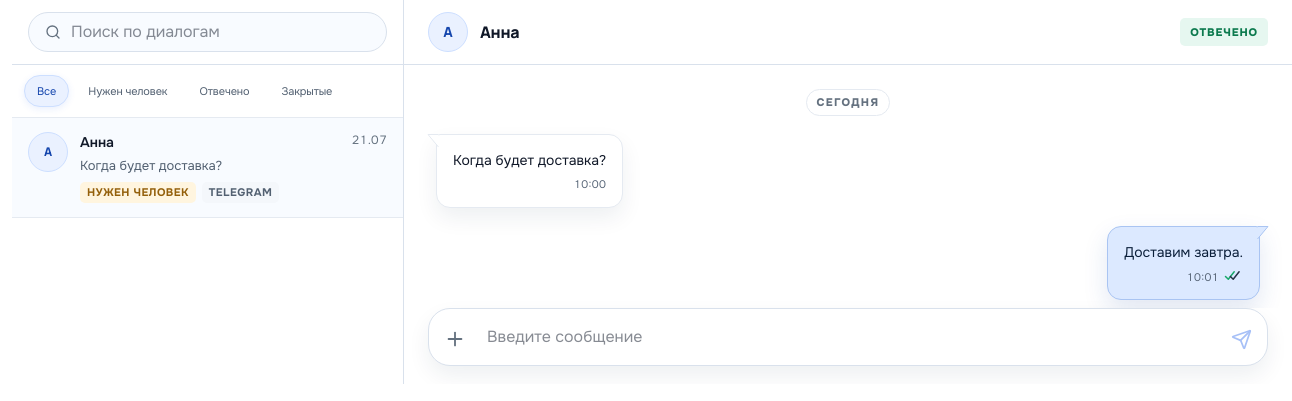
InboxPage live actions › renders a separate state when the current search has no matches
Check: the heading "Анна" is shown, box left=480, top=20, right=519, bottom=44
In the field with placeholder "Поиск по диалогам": (220, 32) left=71, top=20, right=370, bottom=44, type "Несуществующий клиент"
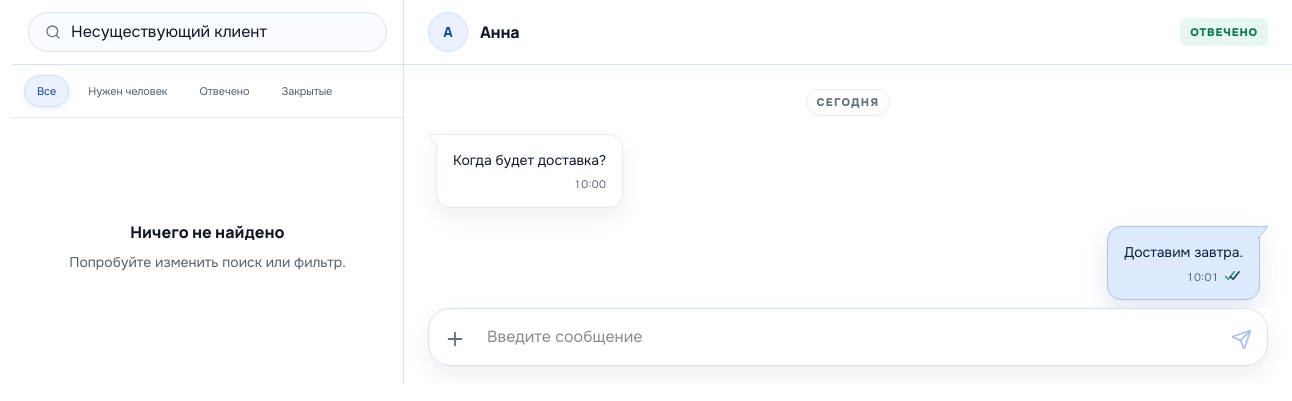
Check: the heading "Ничего не найдено" is shown, box left=130, top=220, right=285, bottom=244
Check: the text "Попробуйте изменить поиск или фильтр." is shown, box left=69, top=252, right=346, bottom=272
